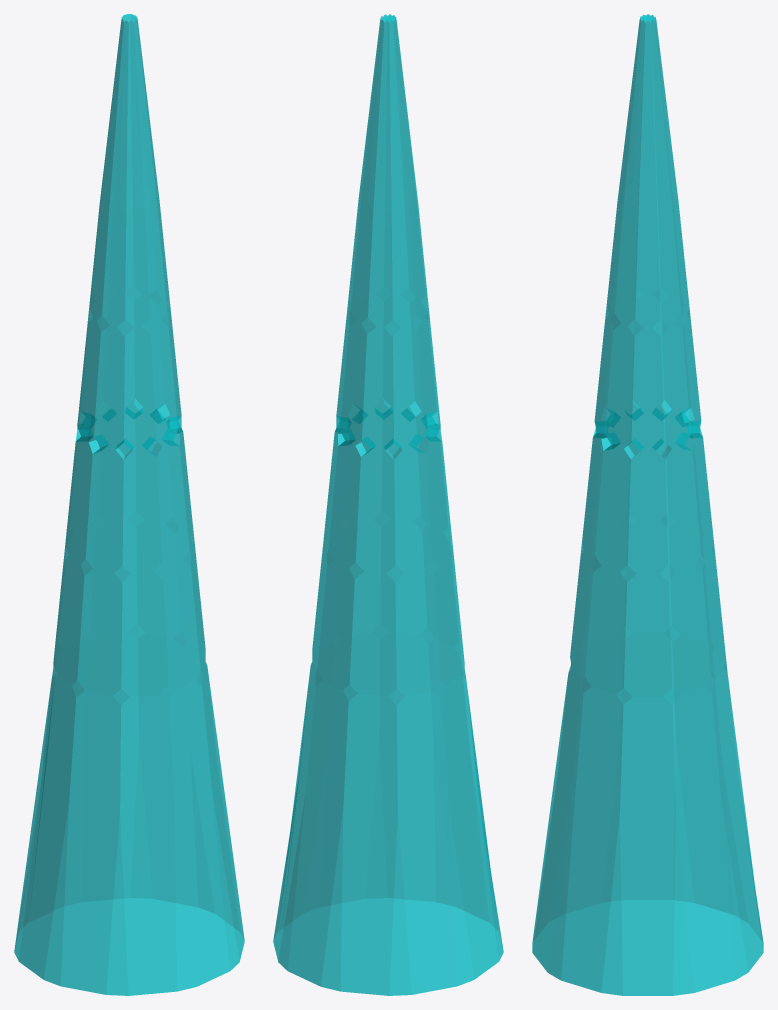
File: Ice.fbx
3 views of the same model, side by side, from view 1: azimuth 30°, elevation 25°; view 2: azimuth 150°, elevation 25°; view 3: azimuth 270°, elevation 25° (orthographic).
Parts seen in each view (by area): view 1: Cylinder.001; view 2: Cylinder.001; view 3: Cylinder.001.
Part boxes in pixels (bbox=[...]): Cylinder.001: bbox=[14, 14, 244, 995]; Cylinder.001: bbox=[273, 14, 503, 995]; Cylinder.001: bbox=[532, 14, 763, 995].
Size of the model in its own units: 186 by 840 by 189.
